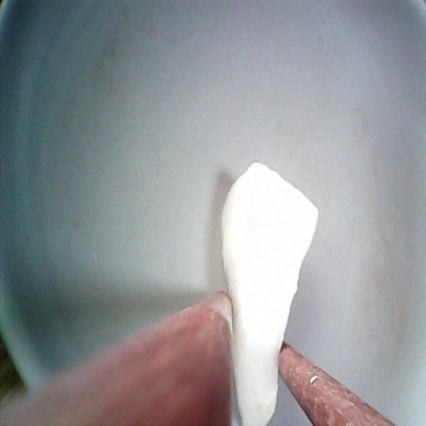white_chinese-yam: (214, 155, 330, 426)
